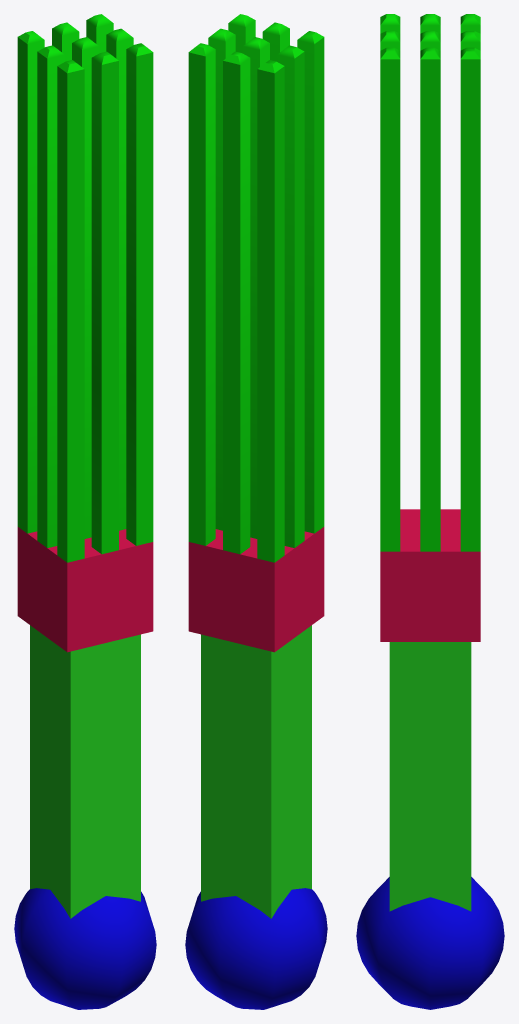
Rendered from CatONine.fbx.
The picture shows the model from 3 angles, left to right: view 1: azimuth 30°, elevation 25°; view 2: azimuth 150°, elevation 25°; view 3: azimuth 270°, elevation 25°; orthographic projection.
Parts seen in each view (by area): view 1: Cube; view 2: Cube; view 3: Cube.
Boxes of the visible parts, x1,y1,x2,y2 form: Cube: (14, 14, 156, 1009); Cube: (185, 14, 327, 1009); Cube: (356, 14, 504, 1009).
Bounding box in the file's own units: 44.53 × 322 × 44.53.
